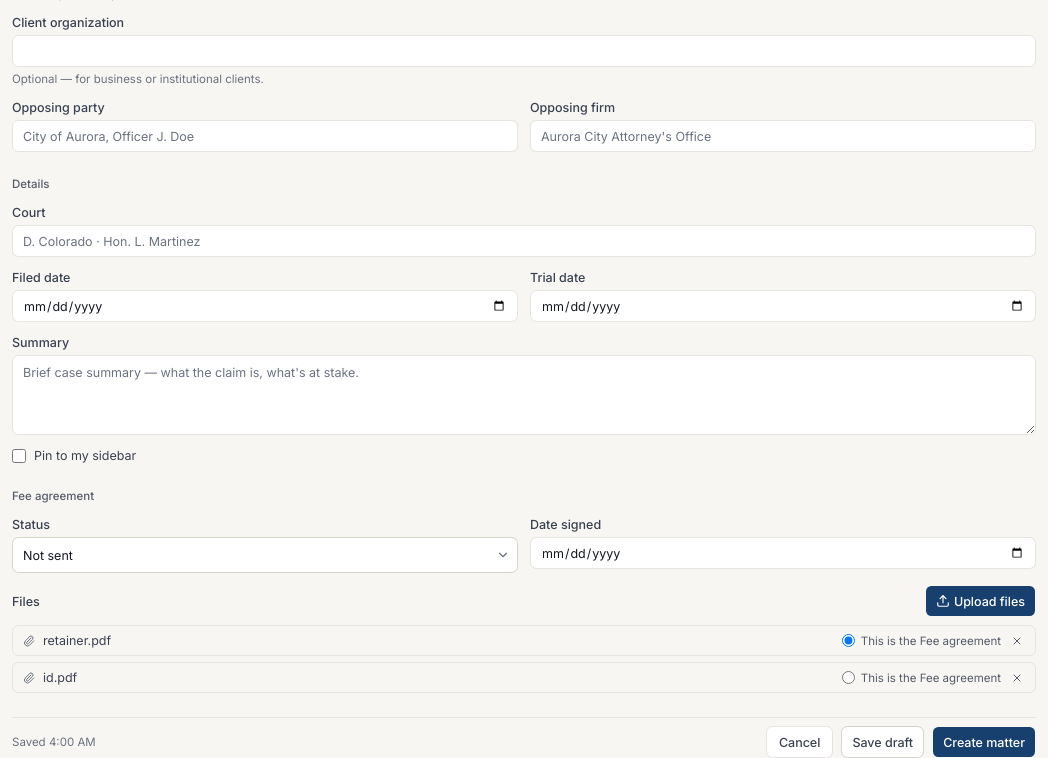
NewMatterForm - Save draft › an oversize draft shows 'This draft is too large to save.'
(page scrolled)
Click the button "Save draft" at (883,742), box left=841, top=726, right=924, bottom=757
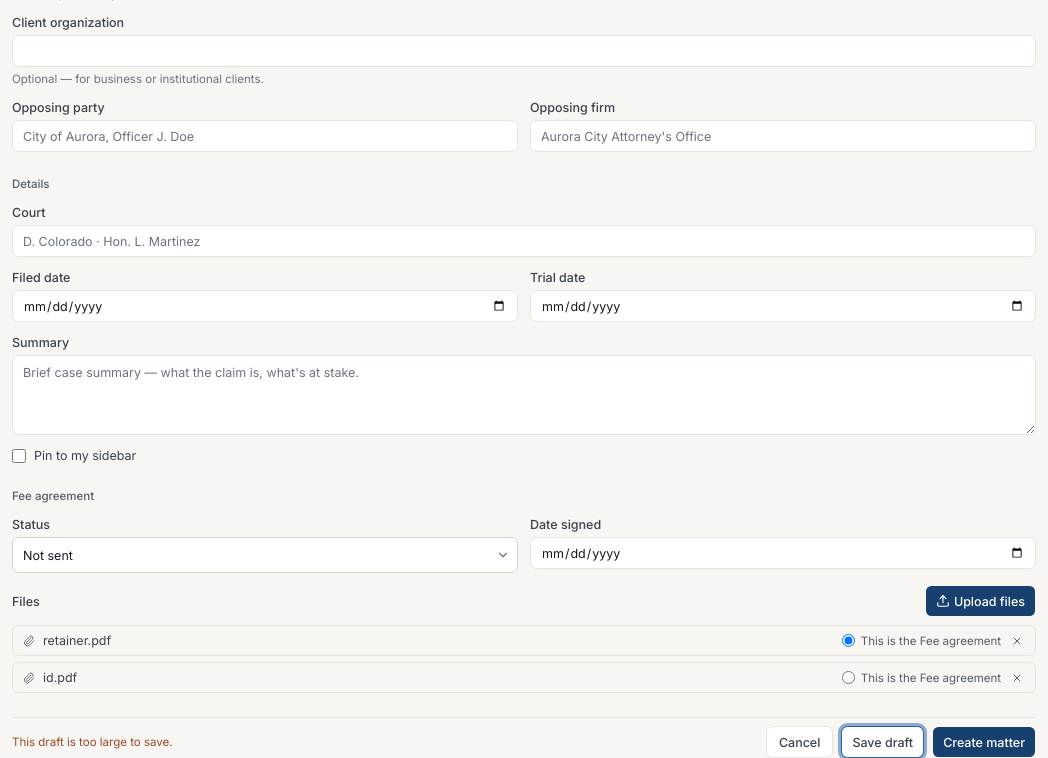
Check: the text "This draft is too large to save." is shown, box left=12, top=734, right=172, bottom=750
